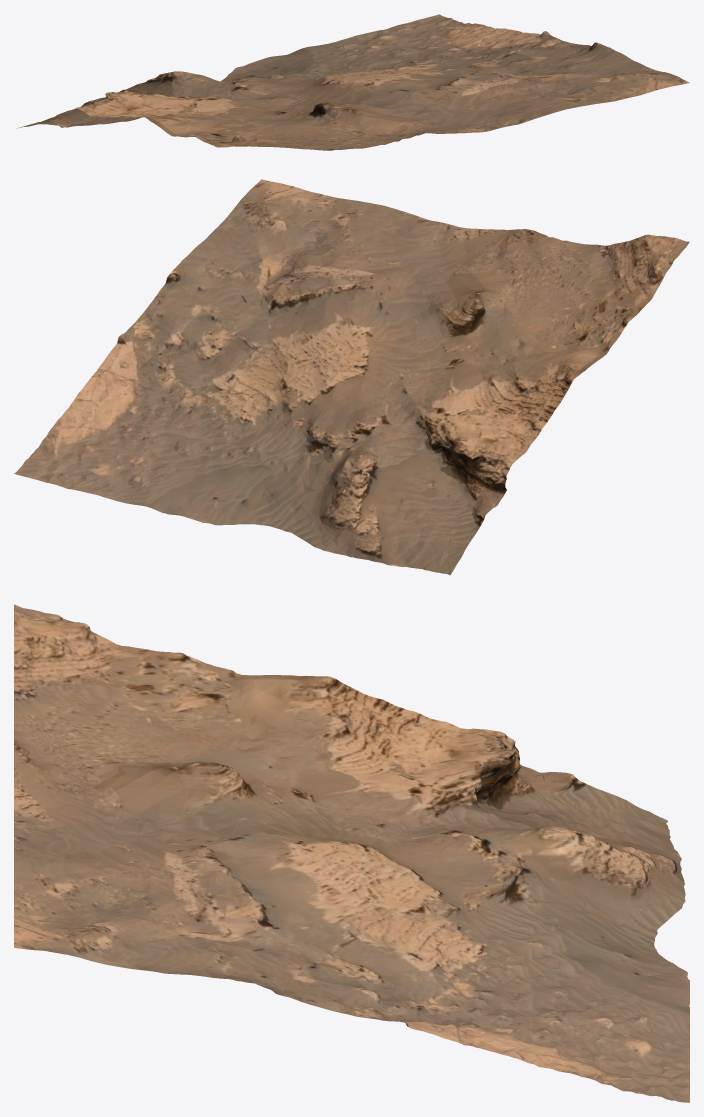
The picture shows the model from 3 angles, top to bottom: view 1: azimuth 30°, elevation 25°; view 2: azimuth 150°, elevation 25°; view 3: azimuth 270°, elevation 25°; orthographic projection. The views are drawn at different scales.
Size of the model in its own units: 4.18 by 1.48 by 4.18.
2 materials, 2 textured.
